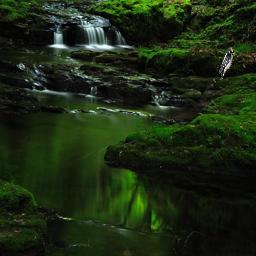Woodpecker: (219, 48, 235, 81)
